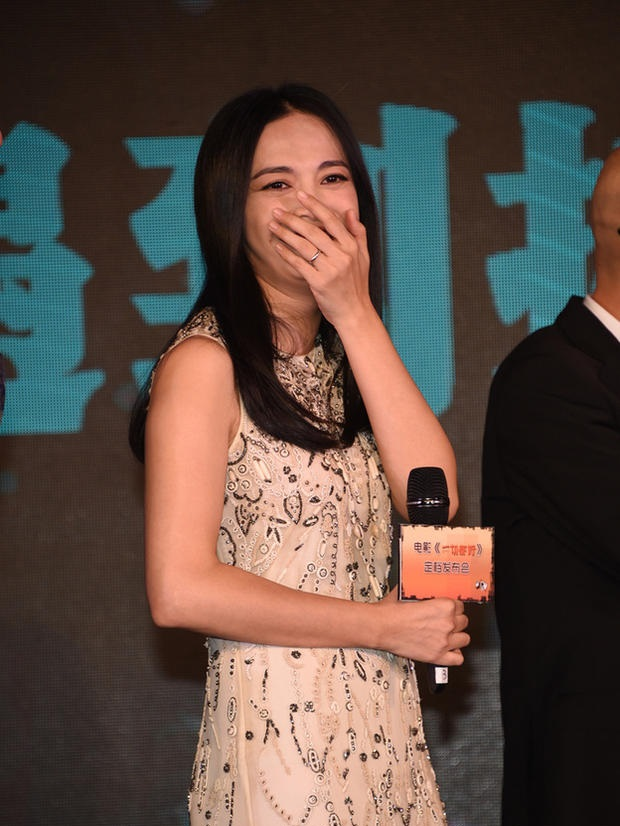face: (251, 114, 356, 279)
